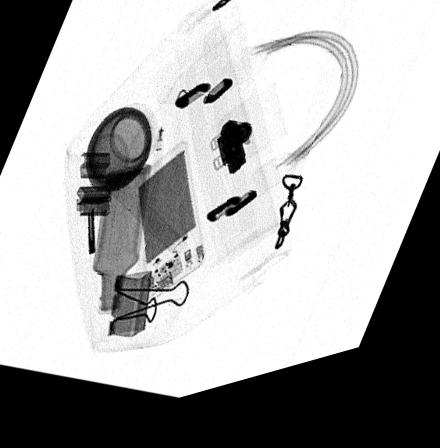Powerbank: (135, 150, 206, 306)
